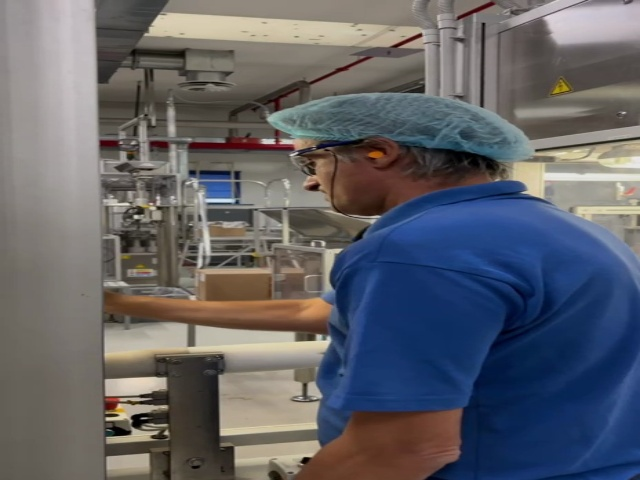Earplug: (354, 135, 401, 169)
Hairnet: (270, 85, 532, 154)
No_Helmet: (271, 93, 523, 152)
No_Vest: (330, 208, 640, 480)
Person: (268, 91, 638, 480)
Safety_Goggles: (290, 140, 363, 174)
